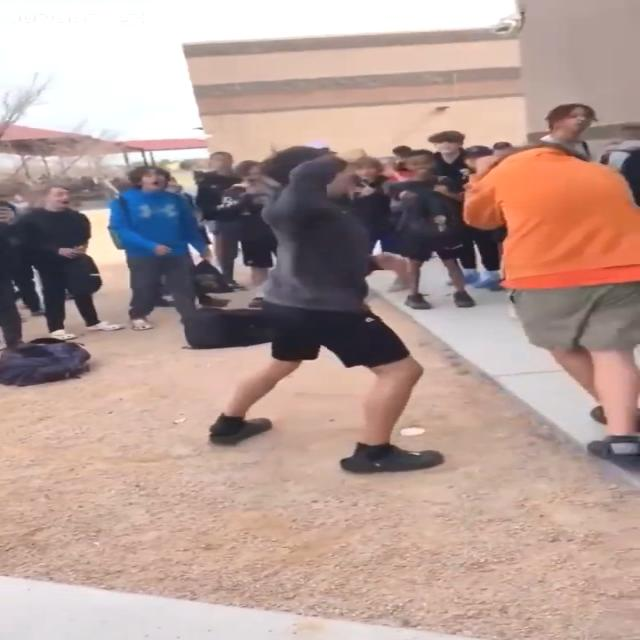fight: (186, 137, 639, 484)
